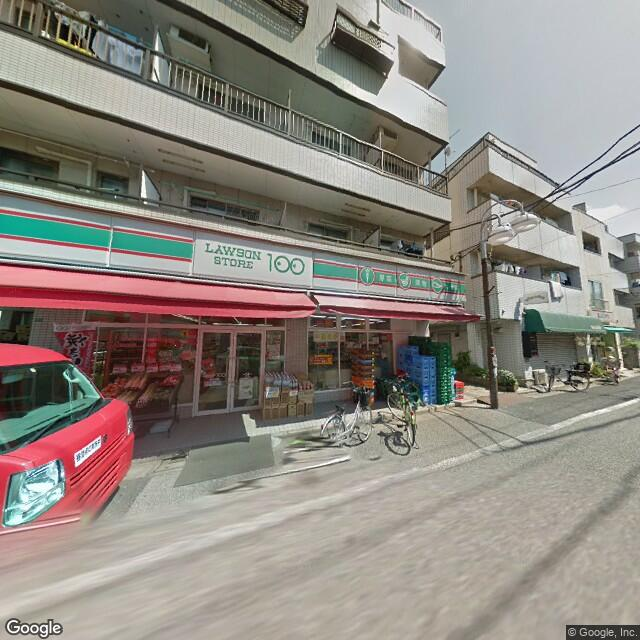lawson: (1, 194, 466, 307)
